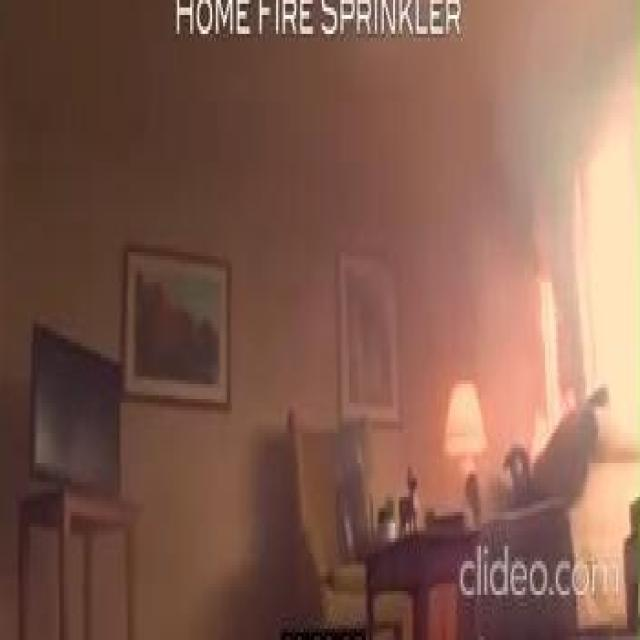smoke: (530, 274, 560, 460)
